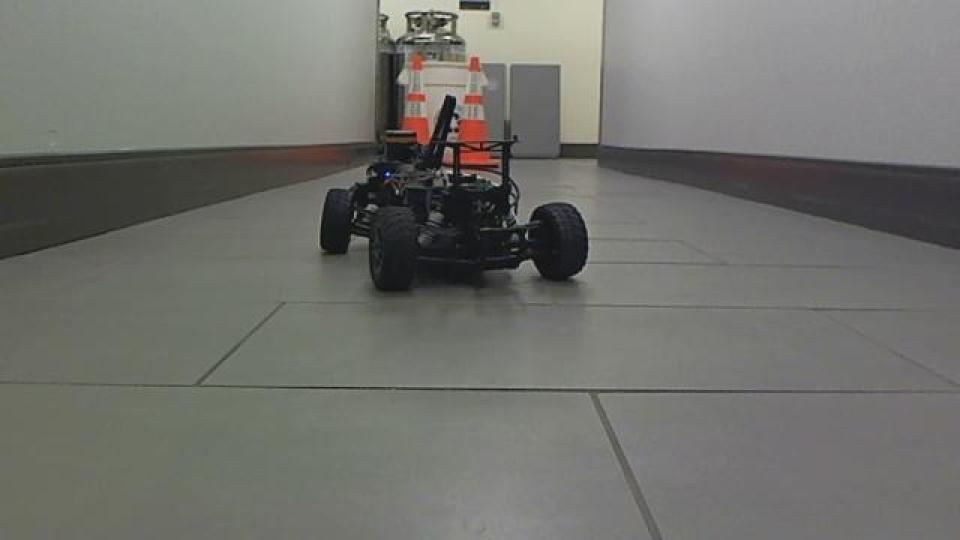car: (315, 92, 591, 294)
